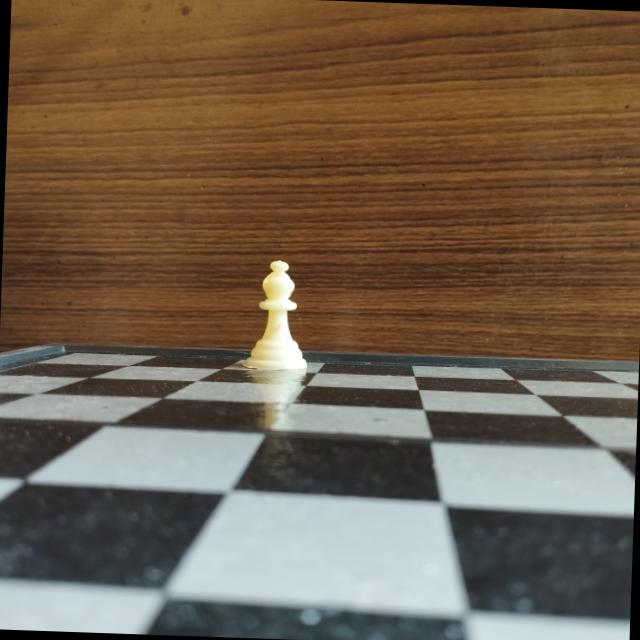White Bishop: (238, 248, 316, 378)
